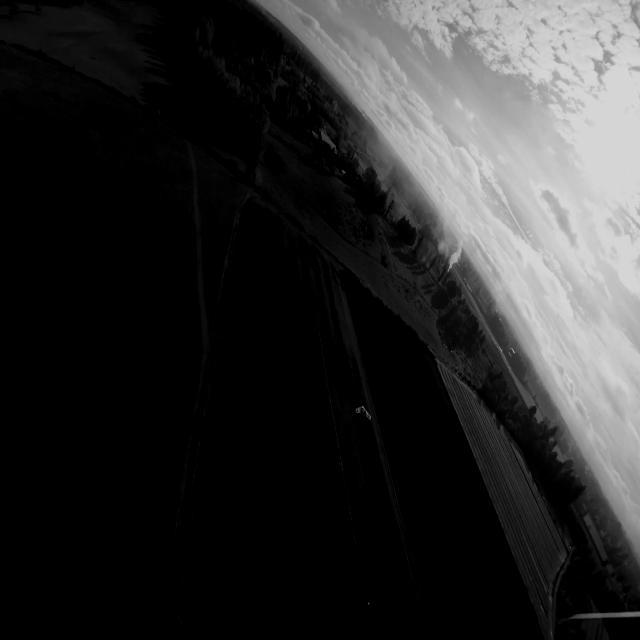iha: (350, 403, 373, 426)
